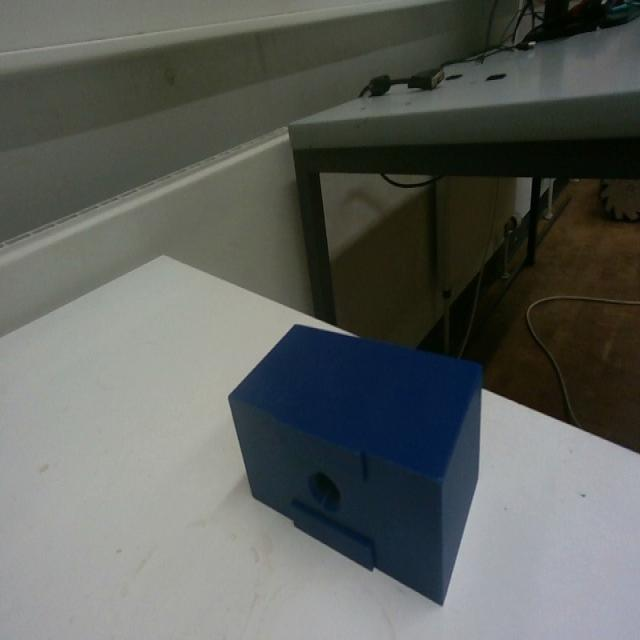Blue Cuboid: (225, 318, 485, 606)
